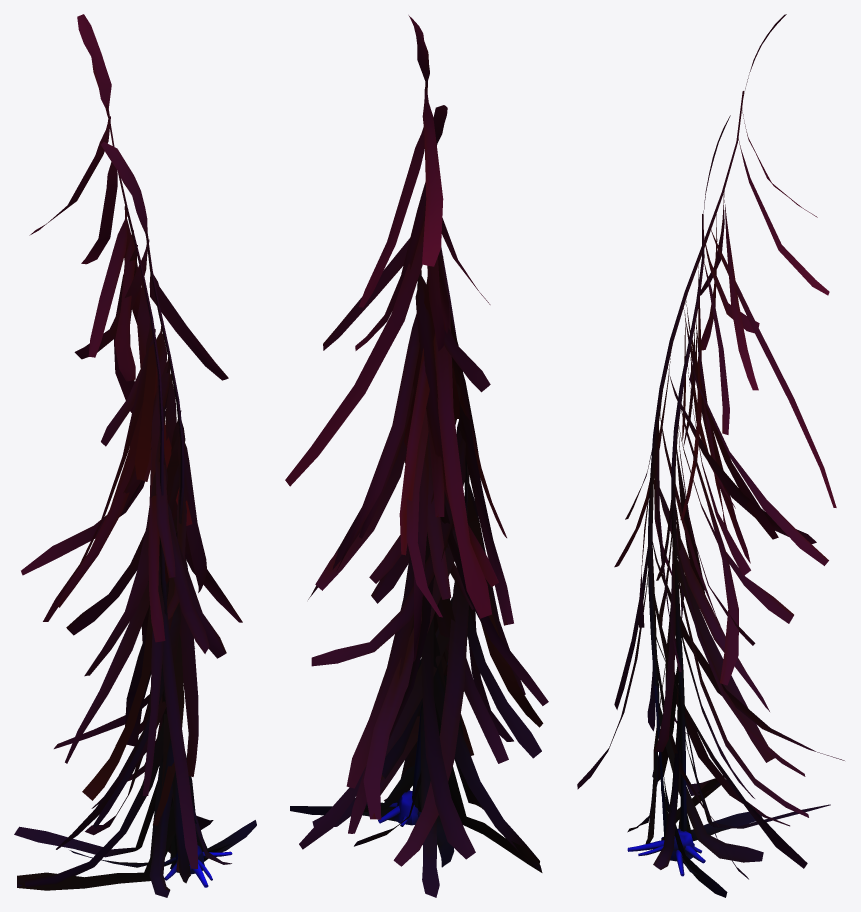
The model's file is MESH_Flora_Kelp_s4025_q100.fbx.
The picture shows the model from 3 angles, left to right: view 1: azimuth 30°, elevation 25°; view 2: azimuth 150°, elevation 25°; view 3: azimuth 270°, elevation 25°; orthographic projection. The views are drawn at different scales.
Parts seen in each view (by area): view 1: MESH_Flora_Kelp_s4025_q100_LOD0; view 2: MESH_Flora_Kelp_s4025_q100_LOD0; view 3: MESH_Flora_Kelp_s4025_q100_LOD0.
Boxes of the visible parts, x1,y1,x2,y2 form: MESH_Flora_Kelp_s4025_q100_LOD0: (14,14,256,897); MESH_Flora_Kelp_s4025_q100_LOD0: (285,15,548,897); MESH_Flora_Kelp_s4025_q100_LOD0: (577,14,844,897).
Size of what is drawn, in the model's own units: 235 by 772 by 230.
